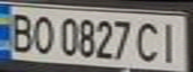0: (57, 14, 81, 57)
2: (93, 16, 115, 60)
7: (112, 17, 136, 61)
8: (75, 16, 96, 60)
B: (3, 10, 36, 53)
C: (136, 19, 163, 63)
I: (157, 18, 184, 64)
O: (30, 11, 57, 55)
